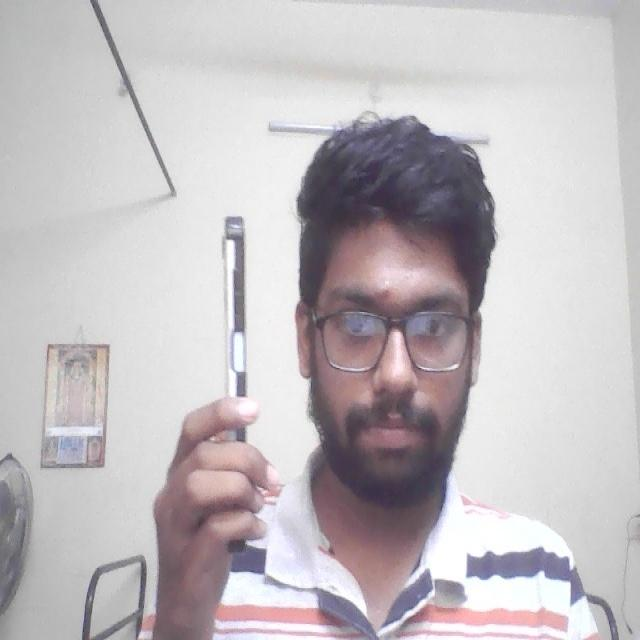Mobile: (218, 206, 256, 403)
